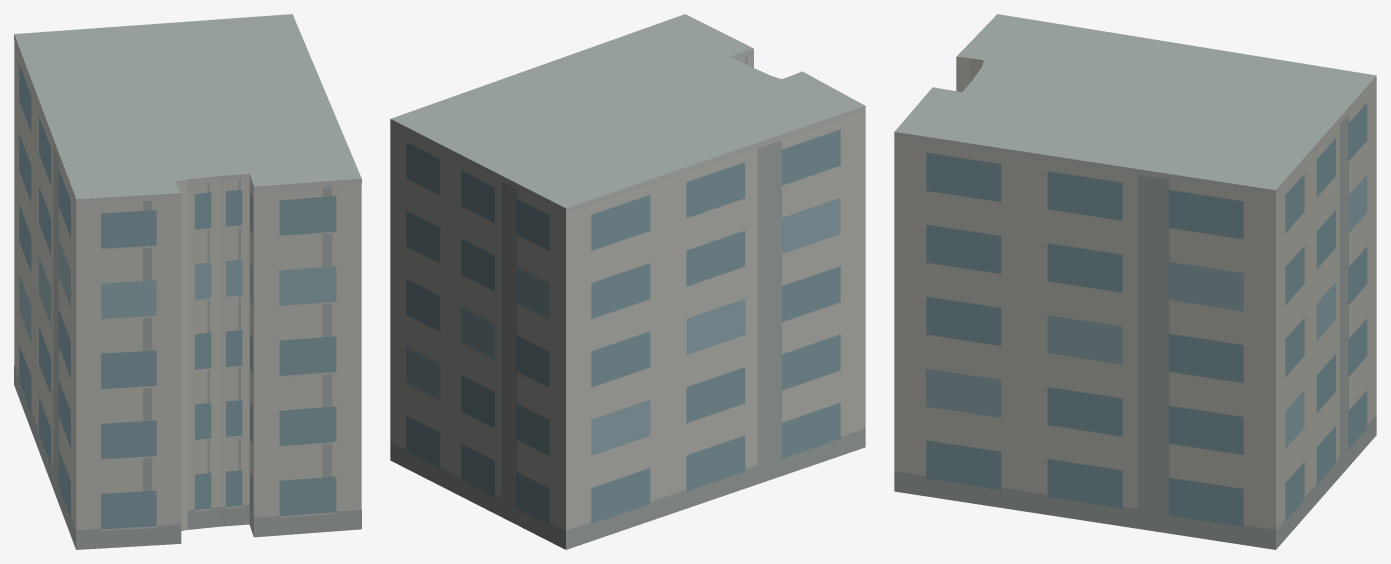
Rendered from survey-upis-32891014.glb.
3 renders of one model, left to right at view 1: azimuth 30°, elevation 25°; view 2: azimuth 150°, elevation 25°; view 3: azimuth 270°, elevation 25°, orthographic. The views are drawn at different scales.
Visible parts, largest first — view 1: survey-upis-32891014.tmp; view 2: survey-upis-32891014.tmp; view 3: survey-upis-32891014.tmp.
Part boxes in pixels (x1=…): survey-upis-32891014.tmp: x1=14, y1=14, x2=361, y2=549; survey-upis-32891014.tmp: x1=390, y1=14, x2=865, y2=549; survey-upis-32891014.tmp: x1=894, y1=14, x2=1376, y2=549.
Size of the model in its own units: 15.24 by 14.49 by 17.62.
